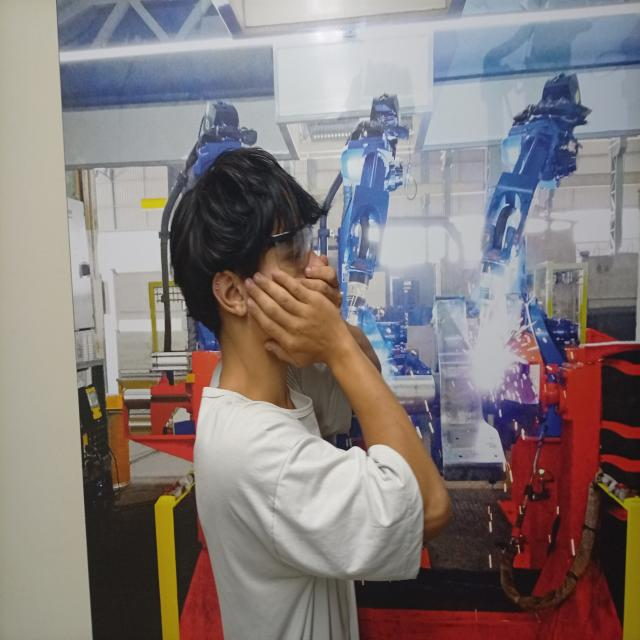oculos-epi: (254, 225, 313, 269)
